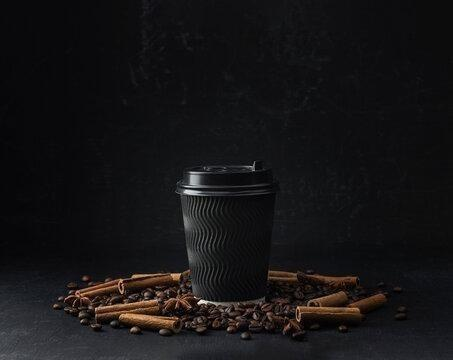cup-disposable: (174, 159, 280, 307)
